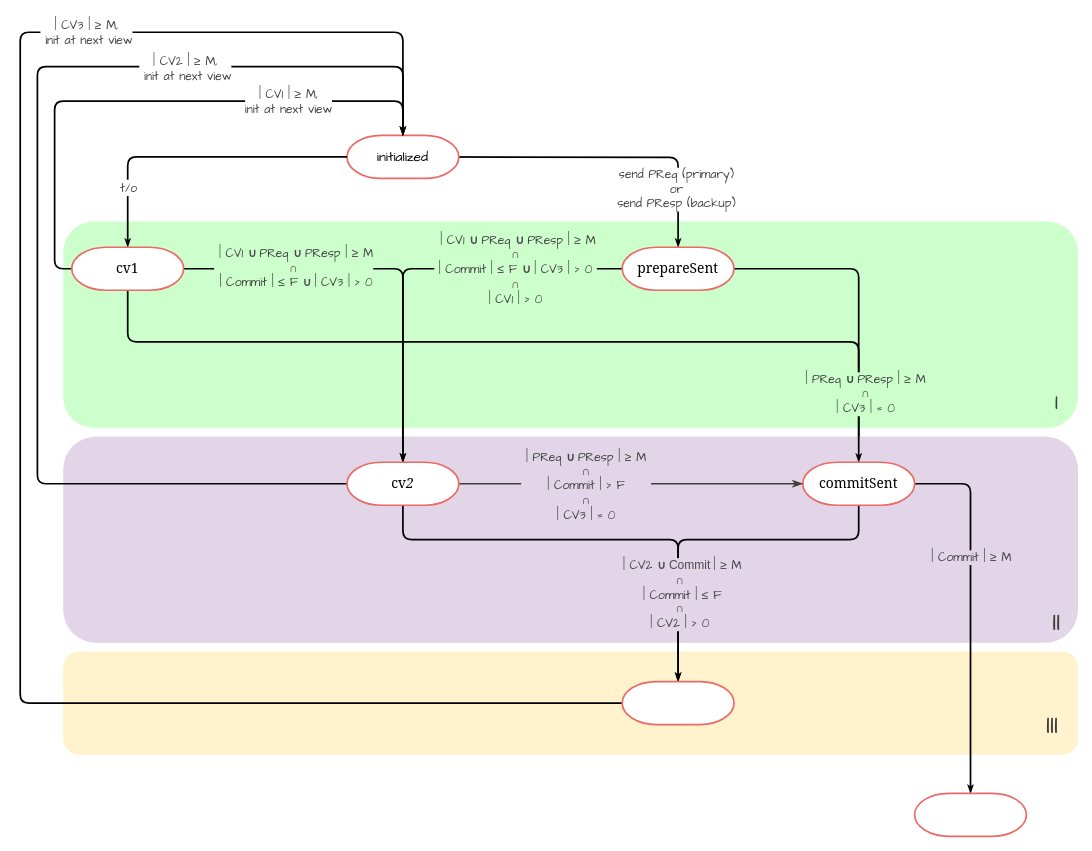
This 1092x851 diagram has some shape labels left out. The centre of each missing label's shape, as x and y in pixels:
blockAccepted: the point at 970,814
cv3: the point at 677,702
